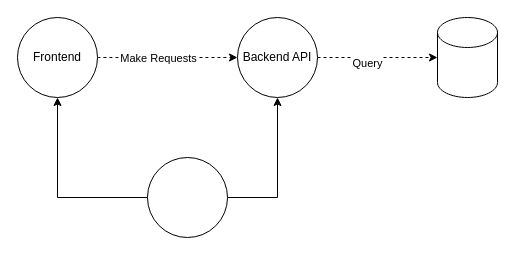
Image size: 515x255. Some labels were removed from this diagram. Here are the shapes that lost their labels. From the top down, the box of each, then its label:
(436, 16, 498, 98): Database
(146, 156, 228, 238): Visual Node Editor
